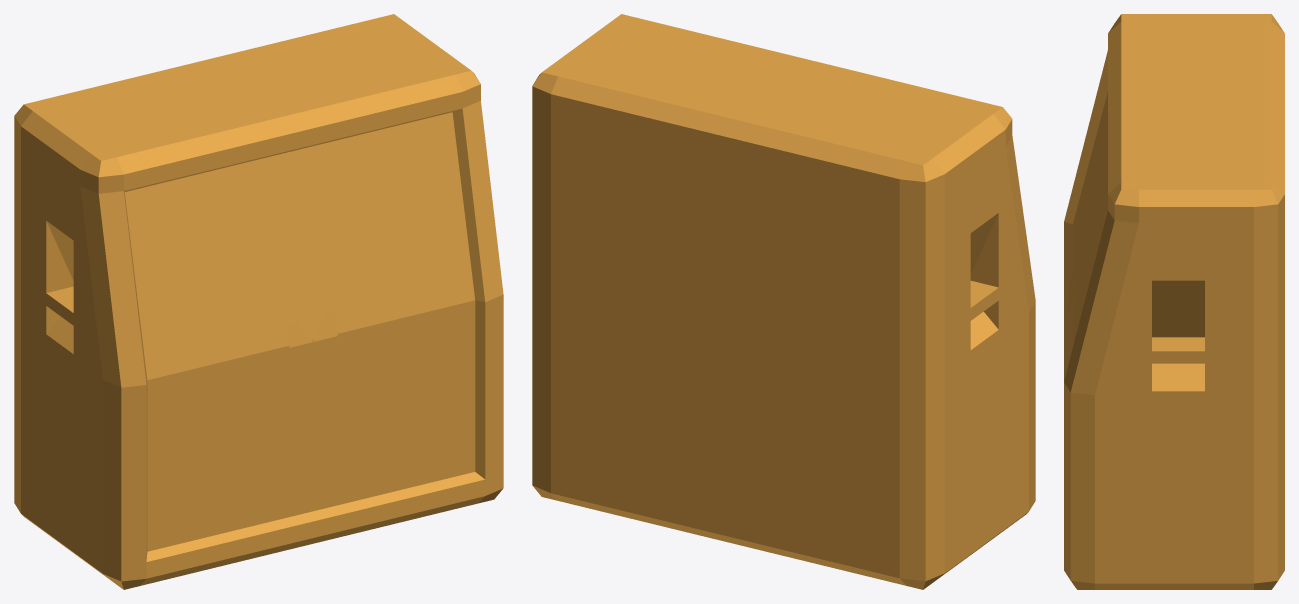
File: speaker-guitar-angle.fbx
3 views of the same model, side by side, from view 1: azimuth 30°, elevation 25°; view 2: azimuth 150°, elevation 25°; view 3: azimuth 270°, elevation 25° (orthographic). The views are drawn at different scales.
Visible parts, largest first — view 1: speaker-guitar-angle; view 2: speaker-guitar-angle; view 3: speaker-guitar-angle.
Boxes of the visible parts, box(x1,y1,x2,y2) form: speaker-guitar-angle: box(14, 14, 503, 589); speaker-guitar-angle: box(532, 14, 1035, 589); speaker-guitar-angle: box(1064, 14, 1284, 589).
Size of the model in its own units: 1 by 1 by 0.5.
